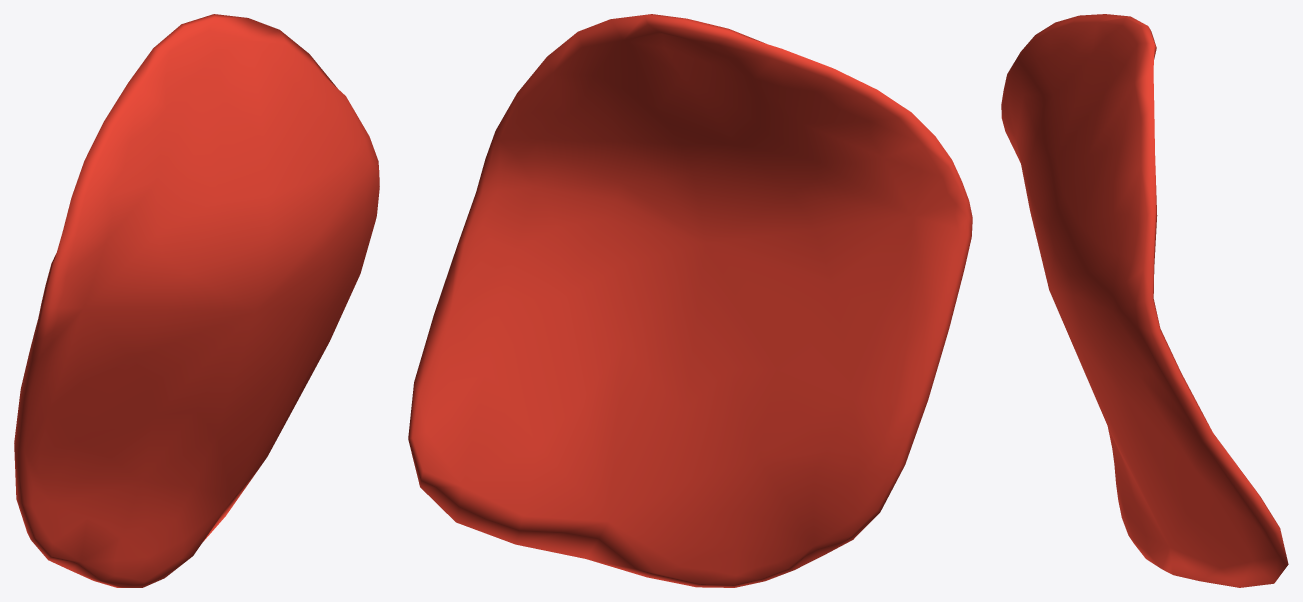
The model's file is Common_flexor_tendon.r_Generated_Mesh_From_X3D.673.glb.
The picture shows the model from 3 angles, left to right: view 1: azimuth 30°, elevation 25°; view 2: azimuth 150°, elevation 25°; view 3: azimuth 270°, elevation 25°; orthographic projection. The views are drawn at different scales.
Visible parts, largest first — view 1: Common_flexor_tendon.r_Generated_Mesh_From_X3D.673; view 2: Common_flexor_tendon.r_Generated_Mesh_From_X3D.673; view 3: Common_flexor_tendon.r_Generated_Mesh_From_X3D.673.
Part boxes in pixels (x1,y1,x2,y2): Common_flexor_tendon.r_Generated_Mesh_From_X3D.673: [14, 14, 379, 587]; Common_flexor_tendon.r_Generated_Mesh_From_X3D.673: [408, 14, 972, 587]; Common_flexor_tendon.r_Generated_Mesh_From_X3D.673: [1001, 14, 1288, 587].
Size of the model in its own units: 0.013 by 0.0161 by 0.00768.
